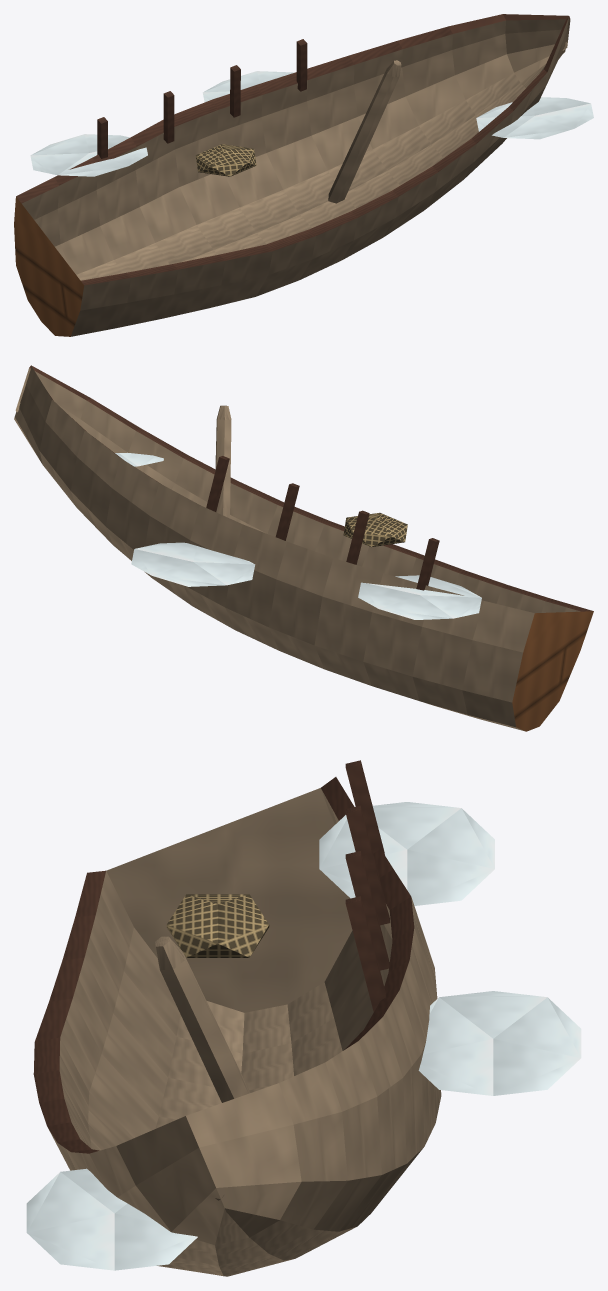
The model's file is boat_wreck_01.glb.
3 renders of one model, top to bottom at view 1: azimuth 30°, elevation 25°; view 2: azimuth 150°, elevation 25°; view 3: azimuth 270°, elevation 25°, orthographic. The views are drawn at different scales.
Visible parts, largest first — view 1: boat_wreck_01; view 2: boat_wreck_01; view 3: boat_wreck_01.
Boxes of the visible parts, x1=… form: boat_wreck_01: x1=14, y1=14, x2=593, y2=336; boat_wreck_01: x1=14, y1=365, x2=593, y2=731; boat_wreck_01: x1=26, y1=760, x2=581, y2=1276.
Size of the model in its own units: 7 by 2.72 by 3.22.
Materials: 1 (1 with a texture image).
